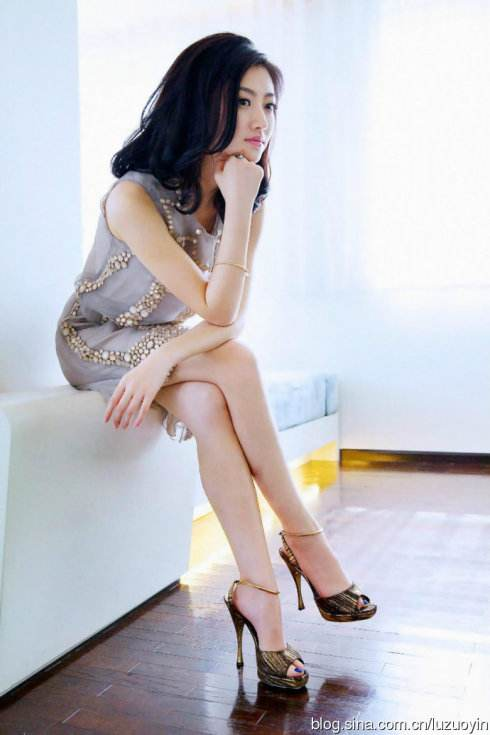person: (36, 49, 409, 591)
